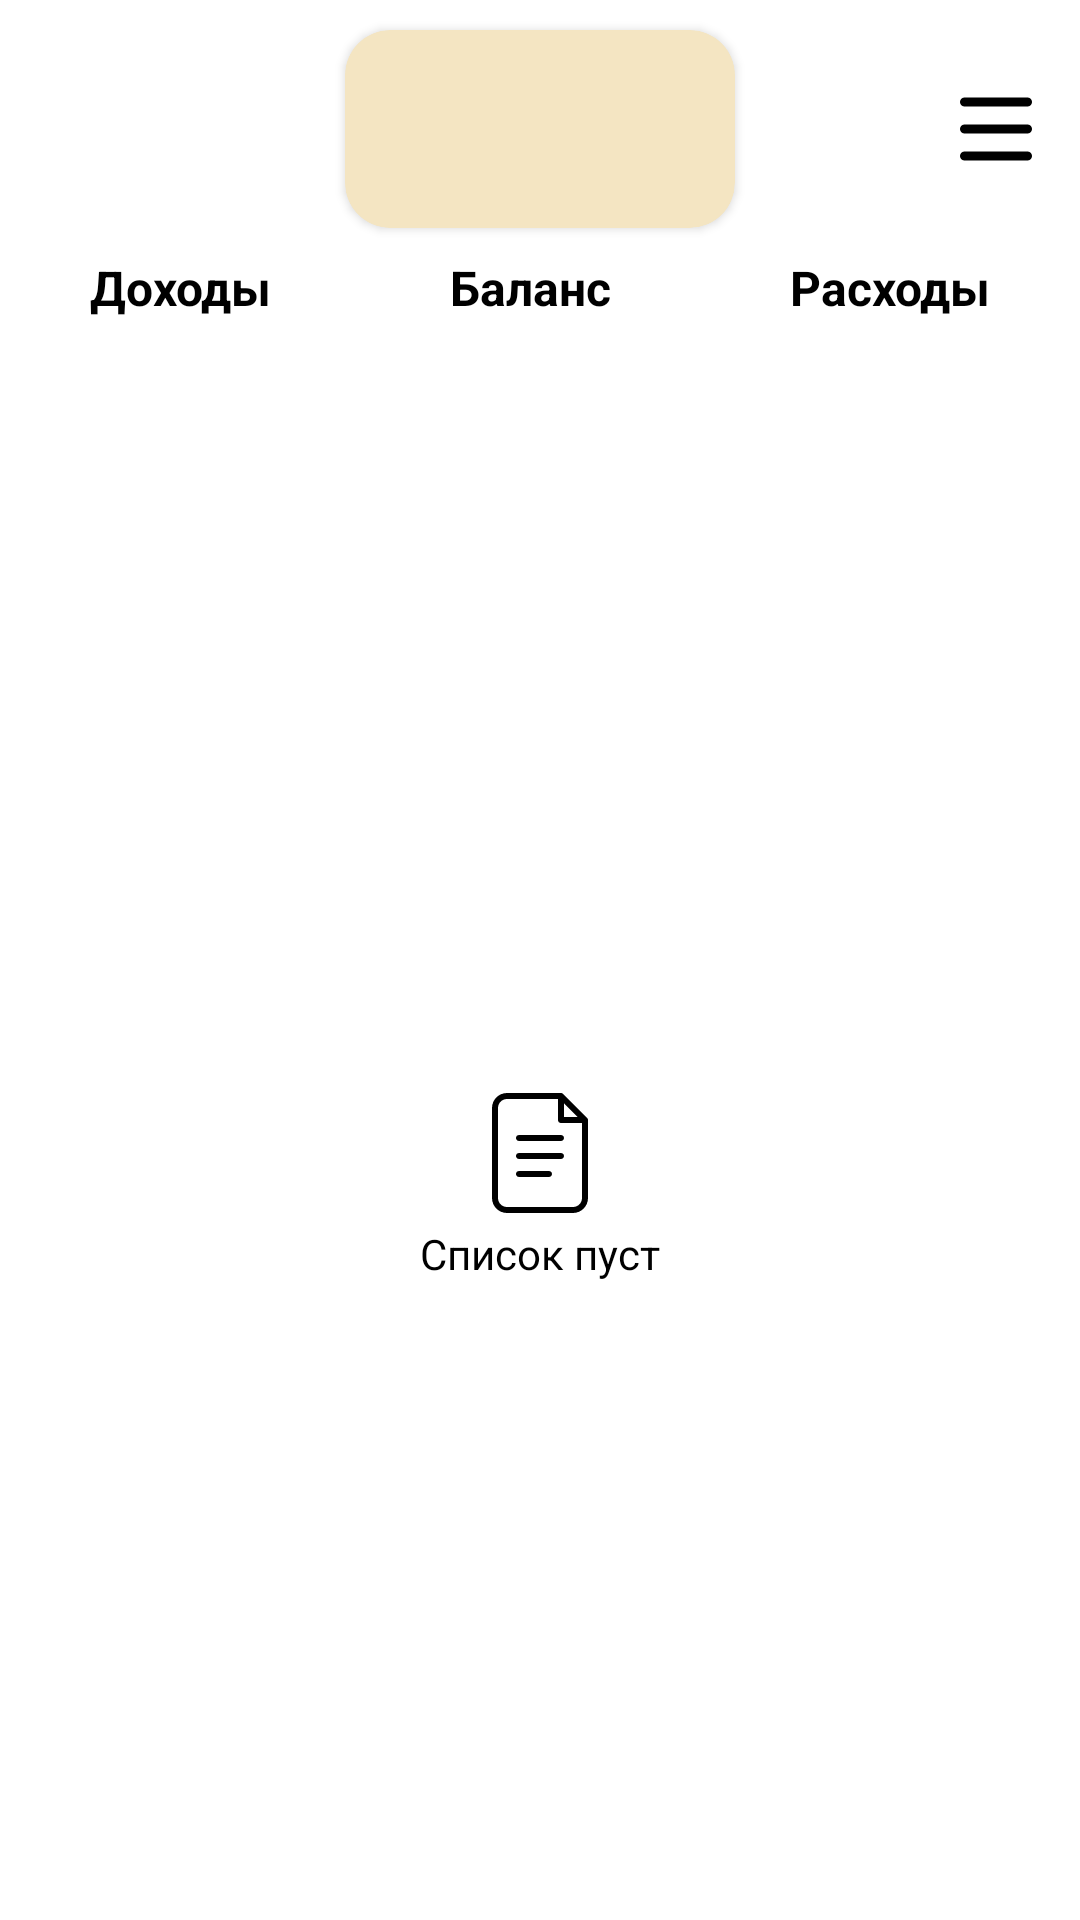

Icons on this 1080x1920 Android screen, each with the point to tap as [x,y]:
history hamburger: [996,129]
